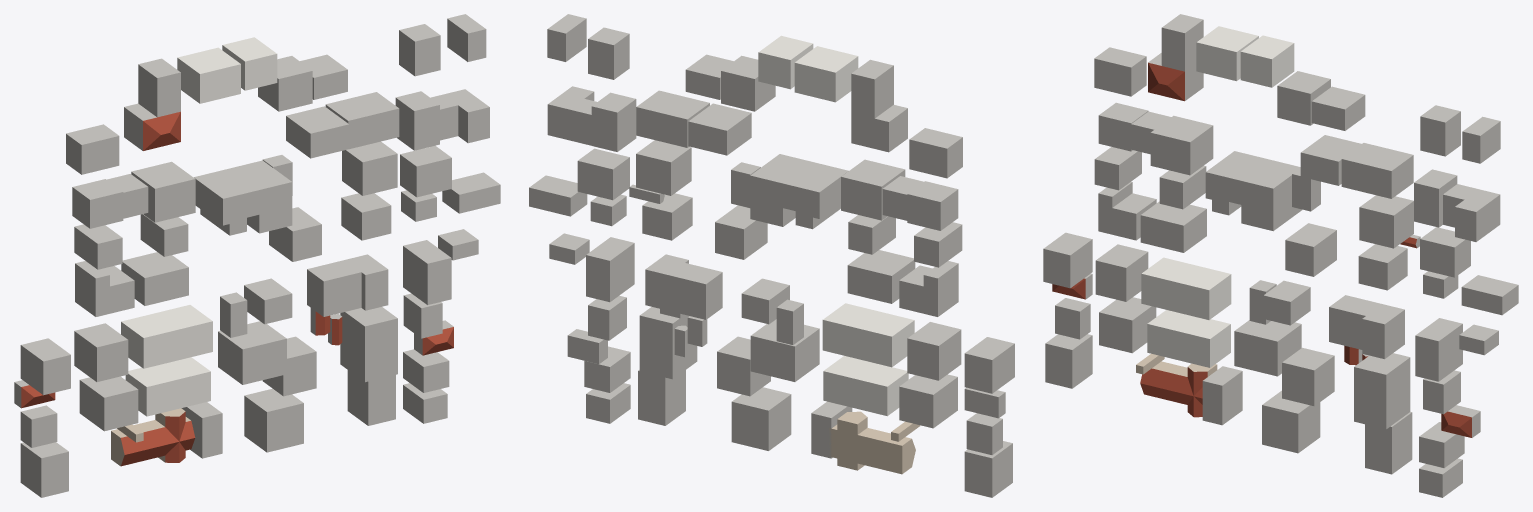
Rendered from evosmos_thess.obj.
3 views of the same model, side by side, from view 1: azimuth 30°, elevation 25°; view 2: azimuth 150°, elevation 25°; view 3: azimuth 330°, elevation 25° (orthographic). The views are drawn at different scales.
Size of the model in its own units: 275 by 229 by 30.
